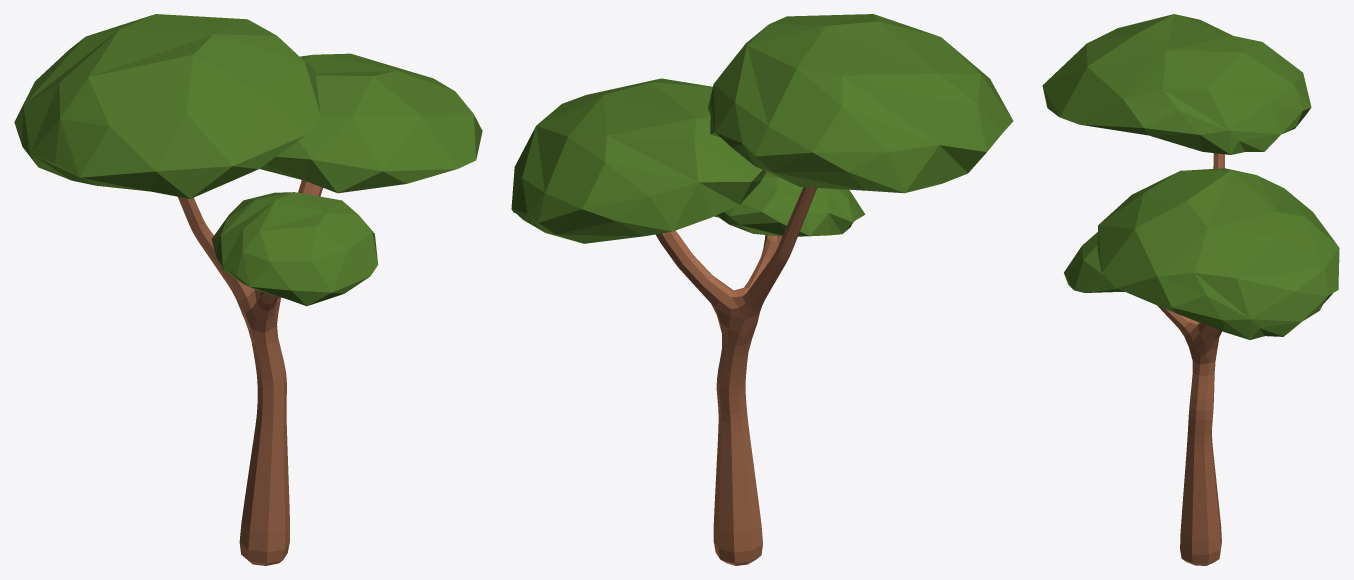
Rendered from Tree.fbx.
3 renders of one model, left to right at view 1: azimuth 30°, elevation 25°; view 2: azimuth 150°, elevation 25°; view 3: azimuth 270°, elevation 25°, orthographic. The views are drawn at different scales.
Visible parts, largest first — view 1: Lowpolytree_6_green; view 2: Lowpolytree_6_green; view 3: Lowpolytree_6_green.
Part boxes in pixels (x1,y1,x2,y2): Lowpolytree_6_green: (14,14,482,565); Lowpolytree_6_green: (511,14,1013,565); Lowpolytree_6_green: (1042,14,1339,565).
Bounding box in the file's own units: 393 × 465 × 259.
